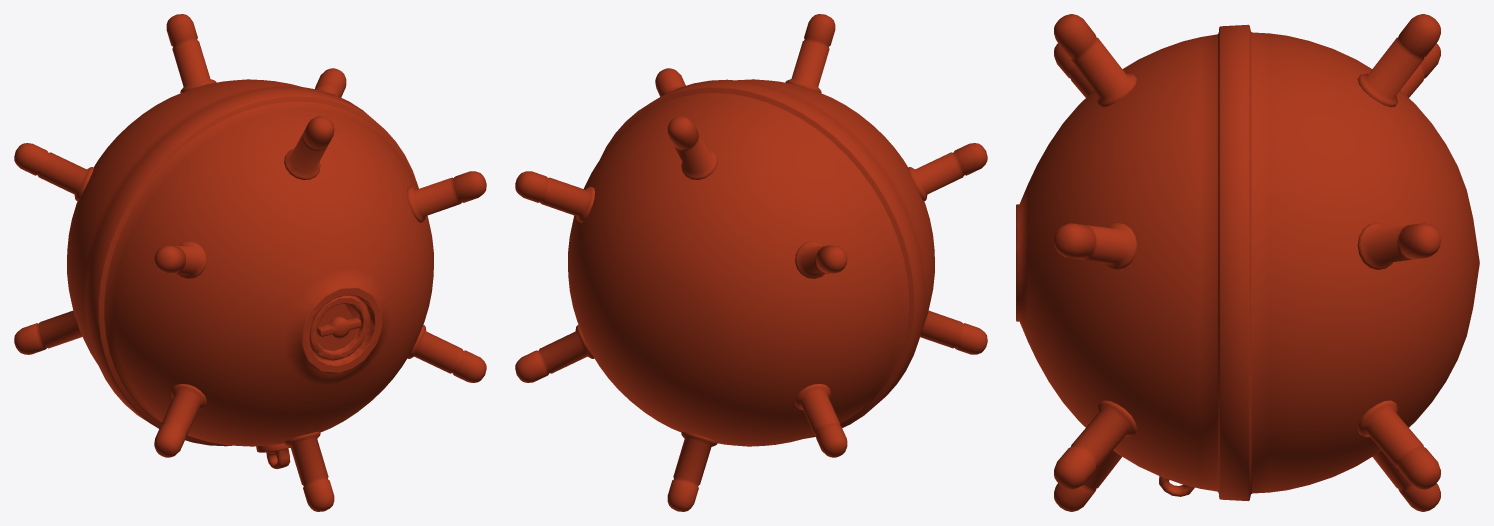
Rendered from mine.gltf.
3 renders of one model, left to right at view 1: azimuth 30°, elevation 25°; view 2: azimuth 150°, elevation 25°; view 3: azimuth 270°, elevation 25°, orthographic. The views are drawn at different scales.
Parts seen in each view (by area): view 1: 16943_Boat_Mine; view 2: 16943_Boat_Mine; view 3: 16943_Boat_Mine.
Part boxes in pixels (<box>): 16943_Boat_Mine: <box>14,14,486,511</box>; 16943_Boat_Mine: <box>515,14,987,511</box>; 16943_Boat_Mine: <box>1016,14,1479,511</box>.
Bounding box in the file's own units: 62.19 × 71.04 × 60.4.
